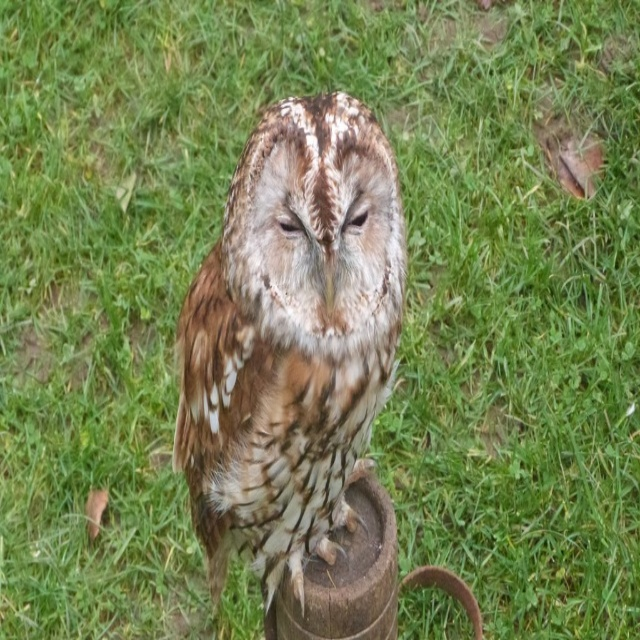Owl: (165, 75, 407, 619)
